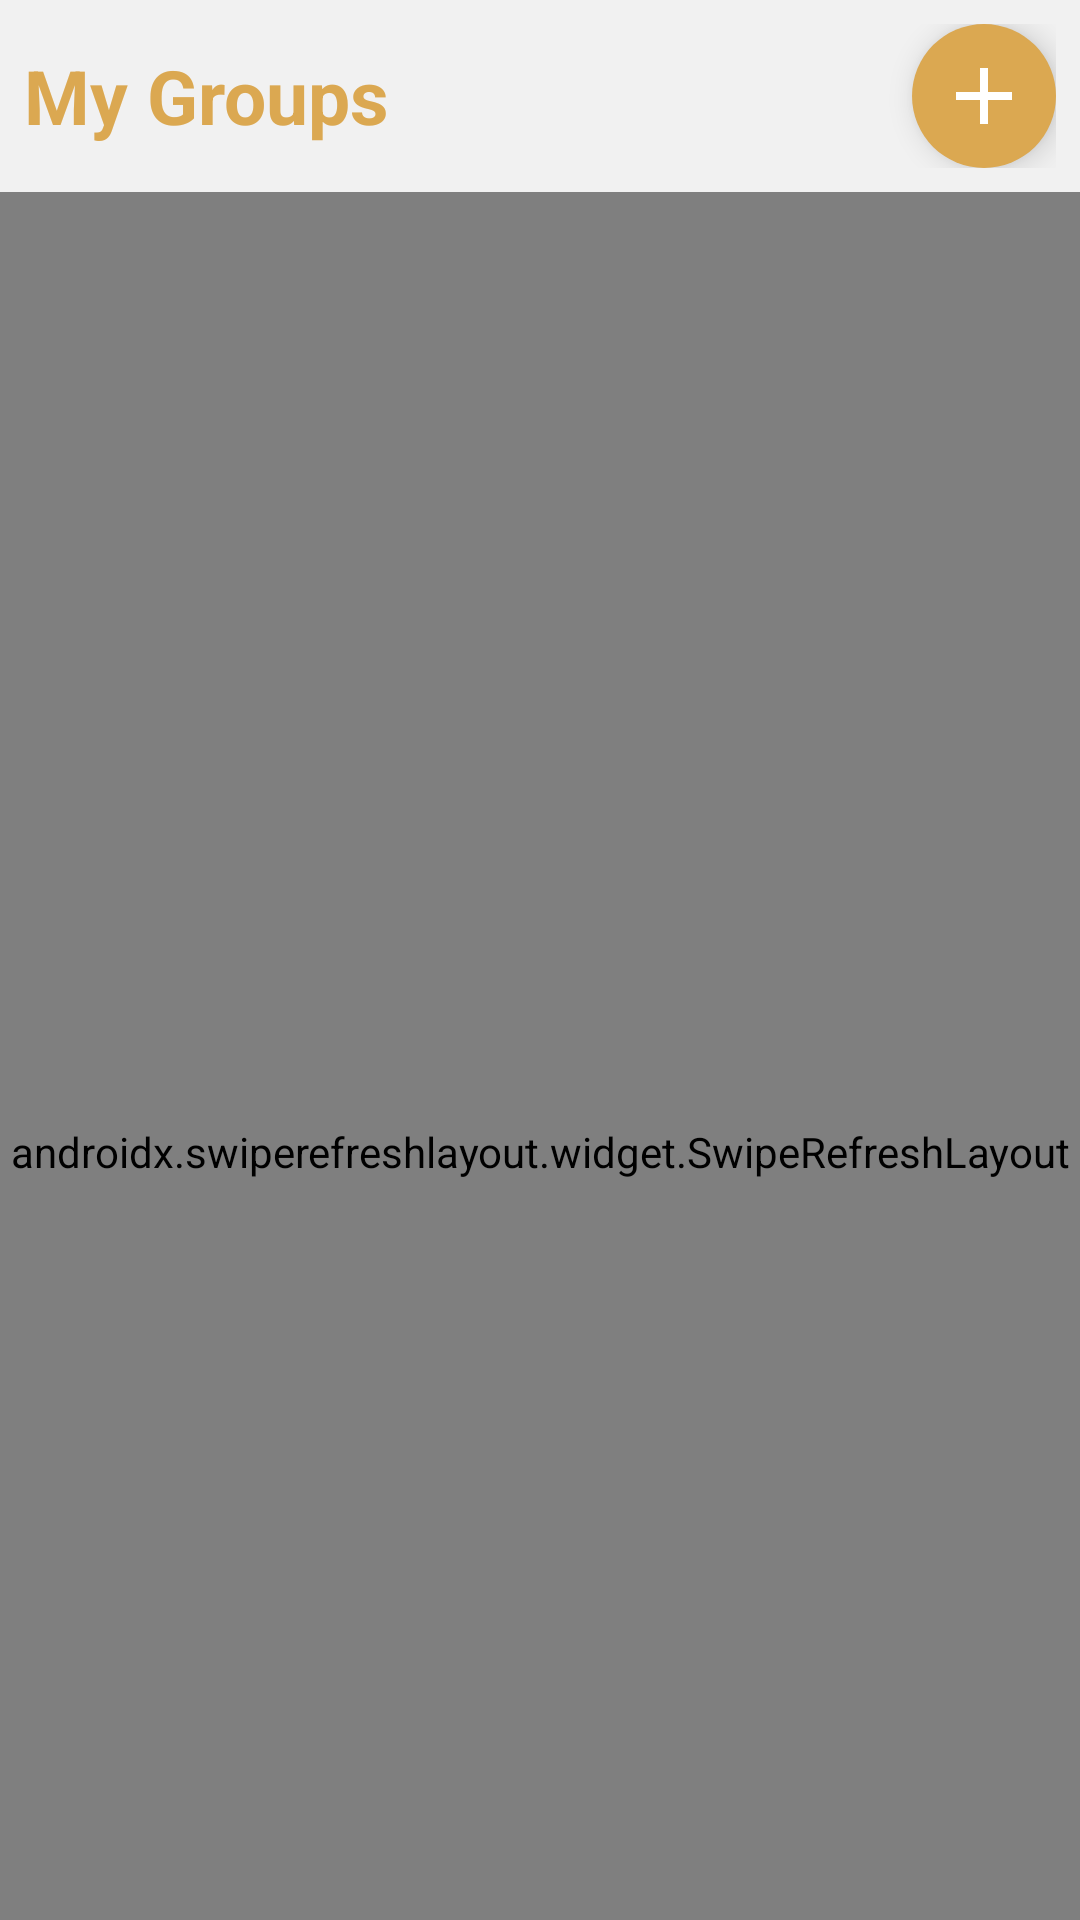

Locate icon controls on the screen. Image size 1080x1920, boxes as {"x1": x1, "y1": y1, "x2": x2, "y2": y2}.
add: {"x1": 912, "y1": 24, "x2": 1056, "y2": 168}
